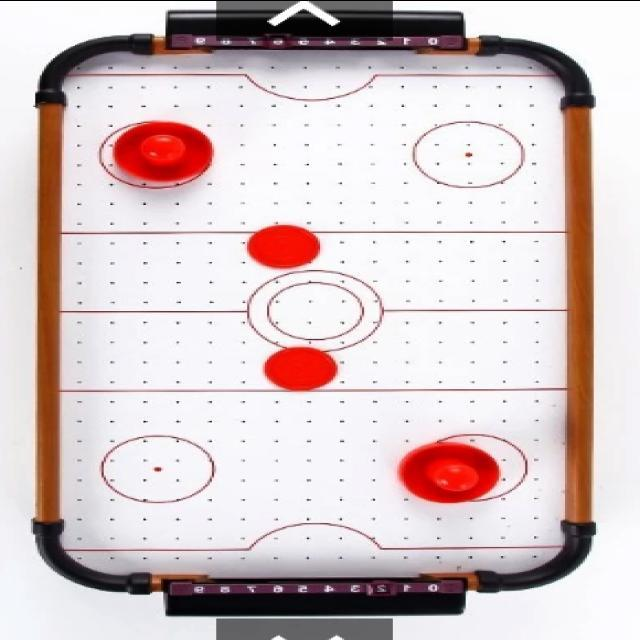chip: (247, 224, 318, 276), (268, 347, 336, 392)
